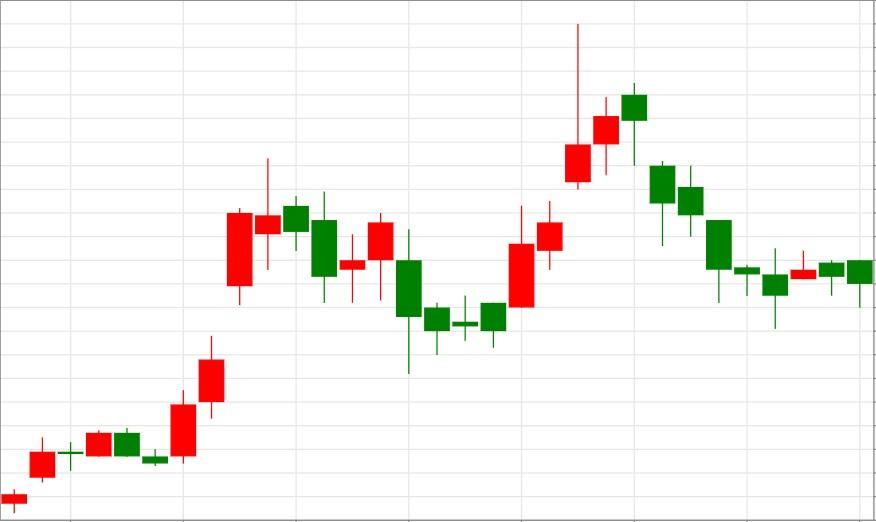hanging_man_fall: (480, 24, 648, 347)
three_white_soldiers_rise: (85, 208, 254, 467)
